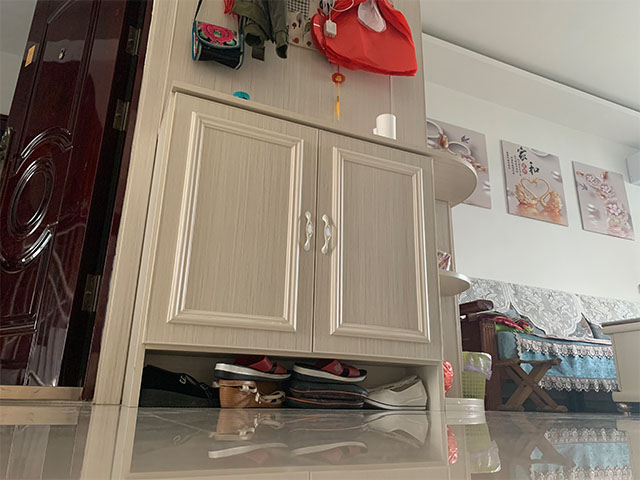cabinet: (109, 85, 479, 412)
sofa: (457, 275, 640, 410)
stool: (493, 356, 569, 413)
trashcan: (461, 350, 492, 400)
